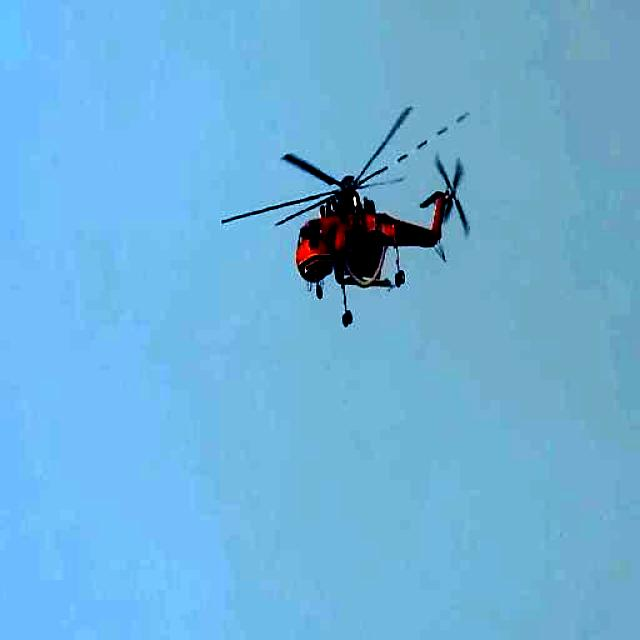drone: (220, 104, 471, 329)
